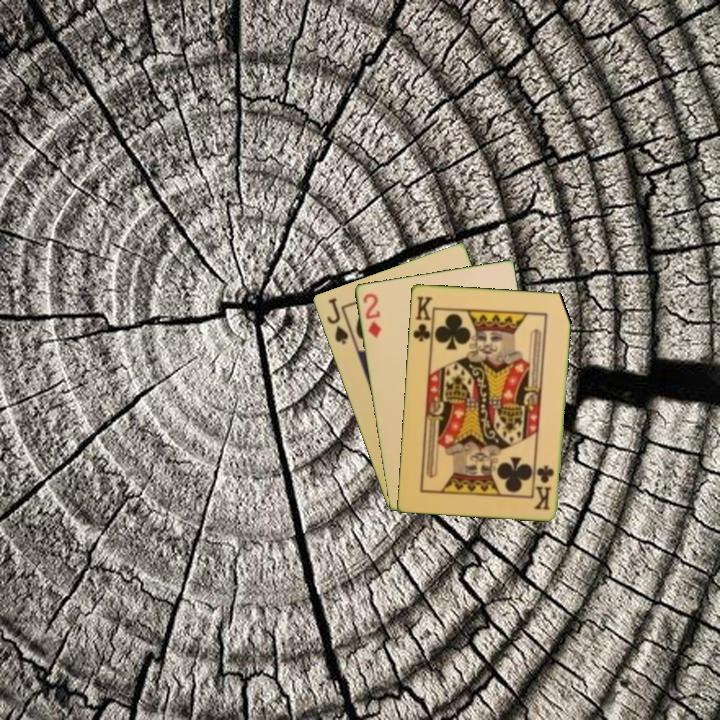2d: (359, 289, 384, 341)
Js: (323, 294, 351, 347)
Kc: (409, 292, 436, 347), (532, 461, 557, 513)
